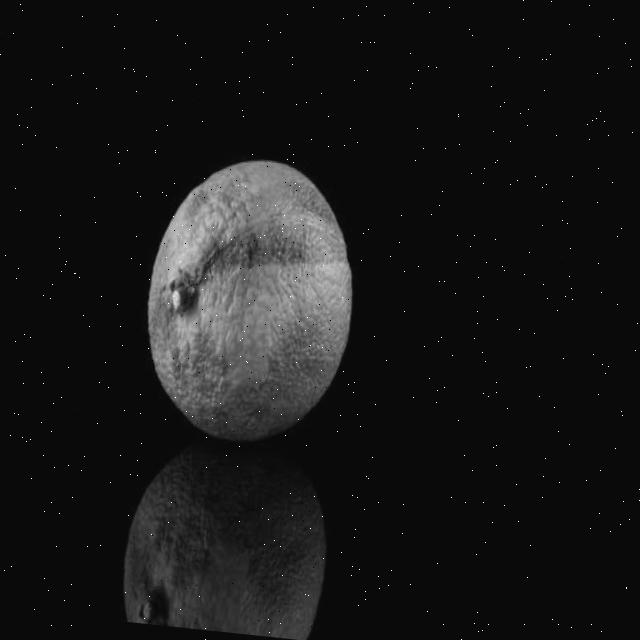overripe: (130, 148, 371, 454)
